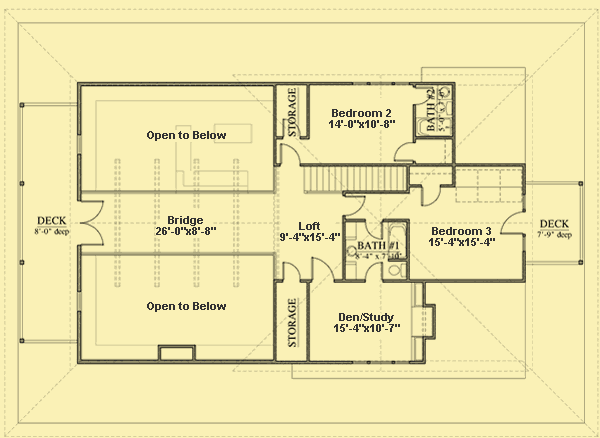door: (76, 197, 105, 248), (310, 256, 337, 283), (500, 208, 526, 236), (279, 258, 304, 284), (277, 142, 304, 166), (420, 185, 443, 210), (390, 140, 413, 163), (362, 218, 385, 241), (344, 195, 368, 217), (365, 261, 385, 281)
large_sink: (386, 262, 410, 280)
stairs: (299, 163, 412, 196)
tub: (414, 117, 454, 137), (387, 223, 405, 259)
window: (75, 288, 84, 311), (76, 133, 83, 156)
